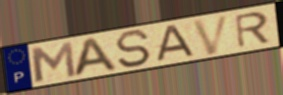A: (70, 35, 120, 79), (152, 23, 198, 64)
M: (28, 40, 79, 84)
R: (233, 10, 273, 50)
S: (114, 29, 153, 70)
V: (190, 12, 233, 57)
